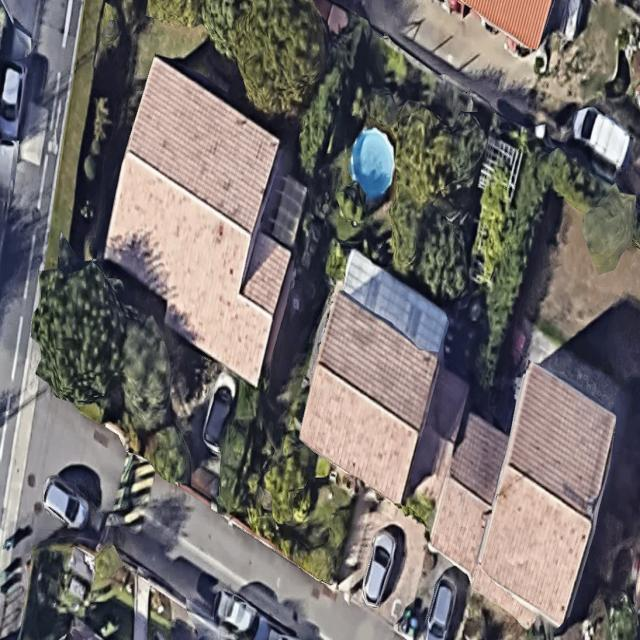maison: (80, 54, 332, 388), (414, 350, 633, 636), (285, 289, 453, 503), (464, 0, 551, 49)
